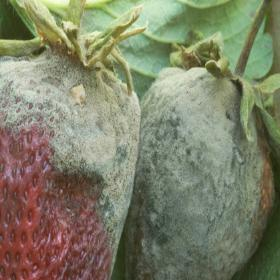Gray Mold: (123, 46, 279, 279), (0, 45, 143, 279)
